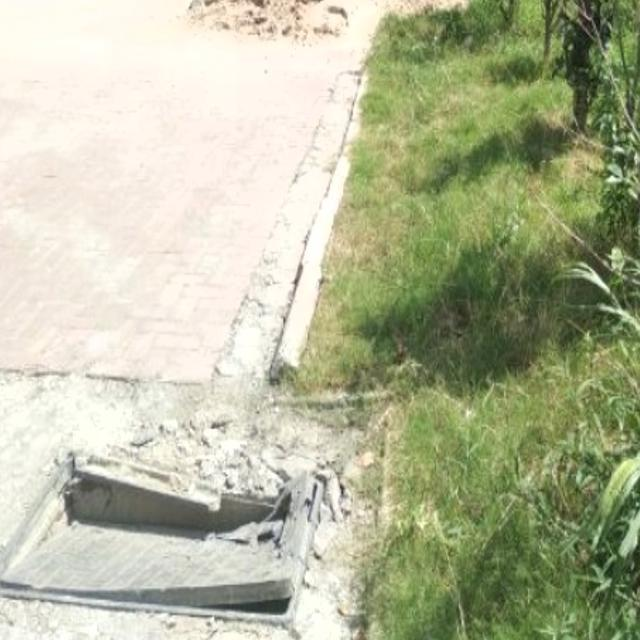broke: (0, 453, 338, 603)
